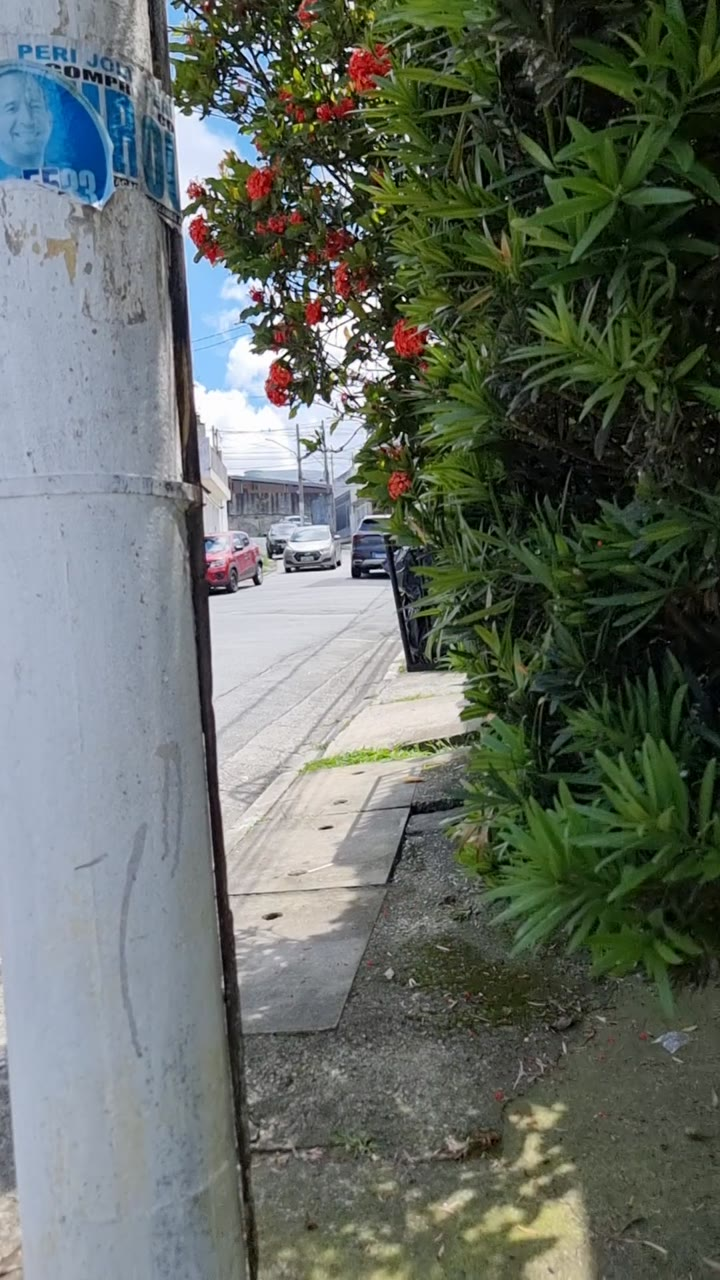obstaculo: (360, 64, 720, 1024), (0, 0, 252, 1280)
